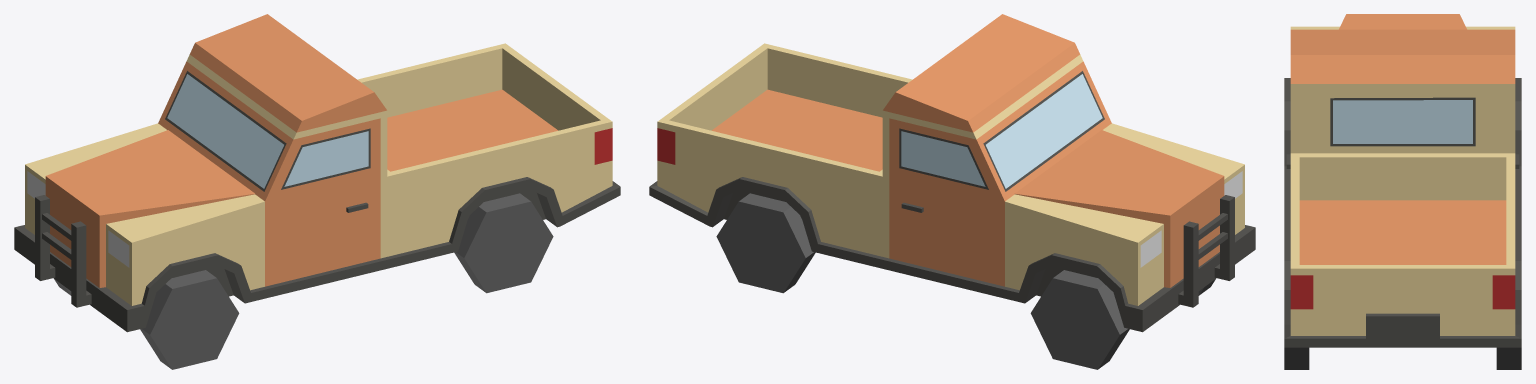
File: pickup.fbx
3 views of the same model, side by side, from view 1: azimuth 30°, elevation 25°; view 2: azimuth 150°, elevation 25°; view 3: azimuth 270°, elevation 25° (orthographic). The views are drawn at different scales.
Parts seen in each view (by area): view 1: Pickup_1; view 2: Pickup_1; view 3: Pickup_1.
Part boxes in pixels (left/top/right/bottom): Pickup_1: left=14, top=14, right=620, bottom=369; Pickup_1: left=649, top=14, right=1255, bottom=369; Pickup_1: left=1284, top=14, right=1521, bottom=369.
Bounding box in the file's own units: 7.79 × 3.3 × 3.01.
Materials: 1 (1 with a texture image).
